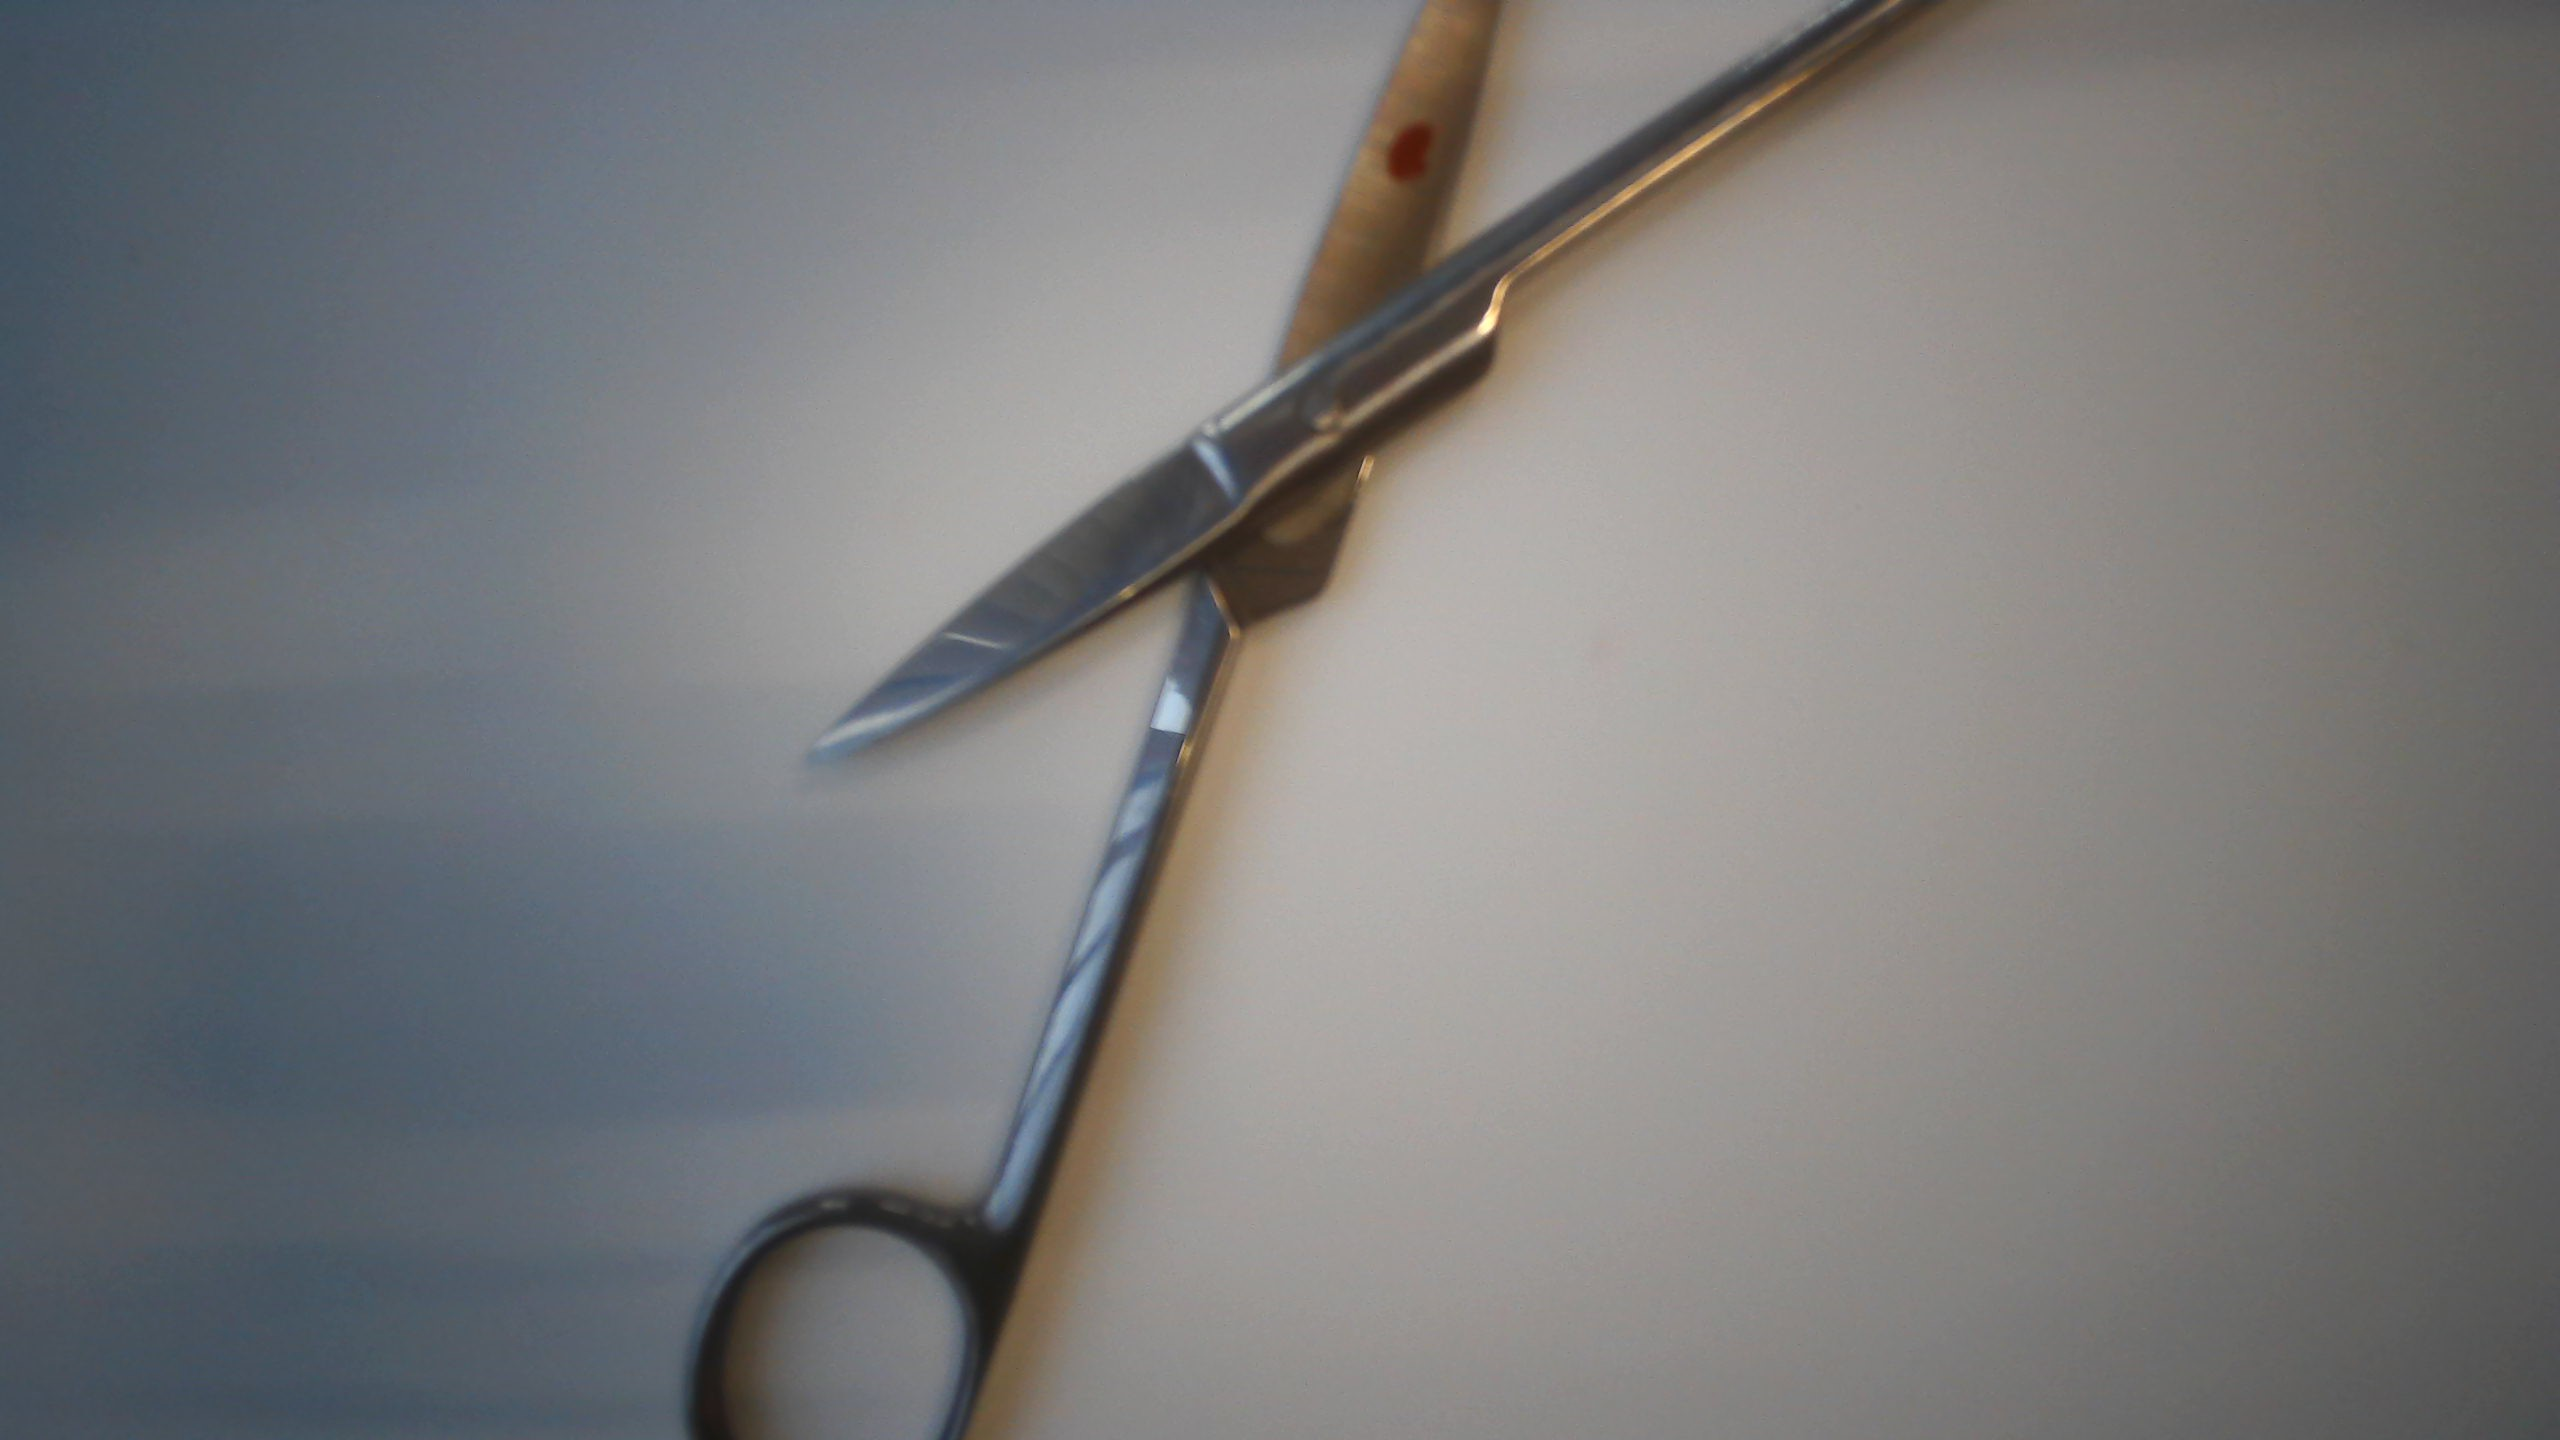Stain: (1366, 110, 1454, 200)
